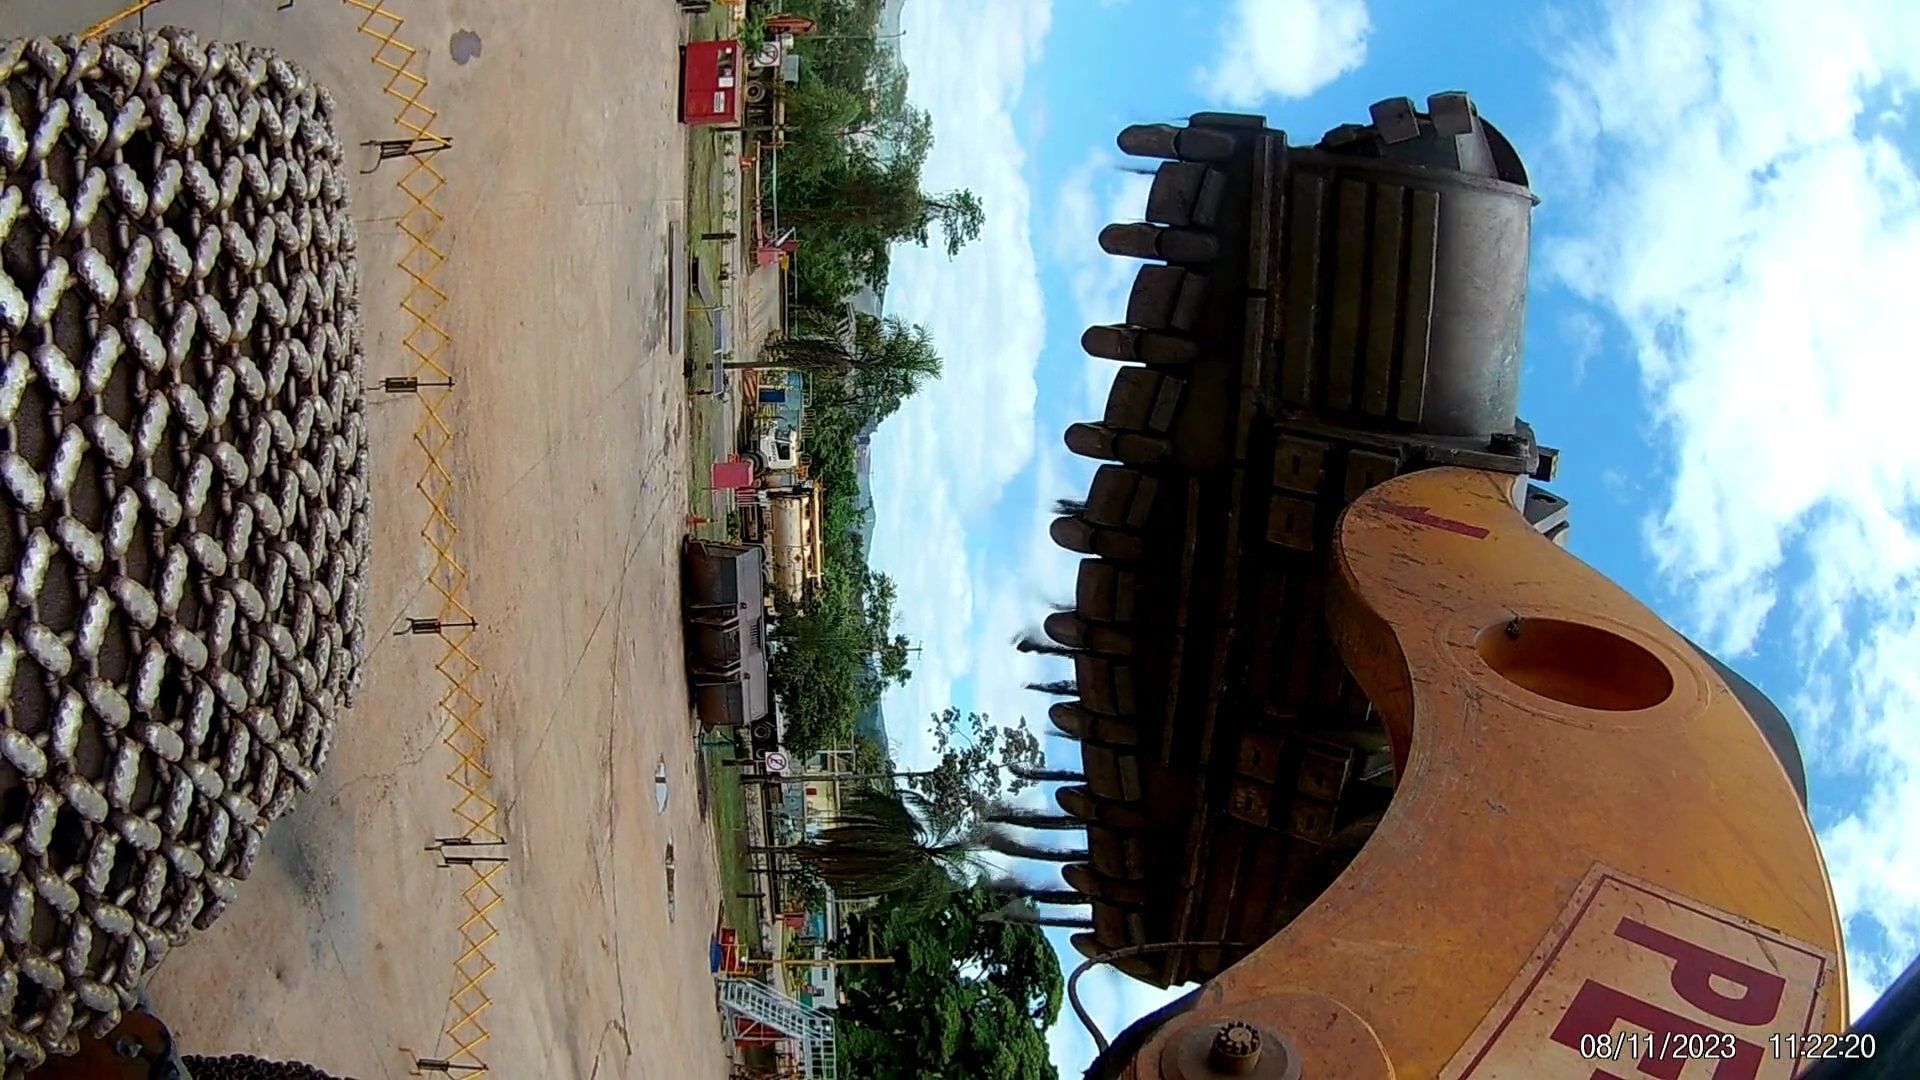FPS: (1077, 212, 1226, 280), (1101, 112, 1249, 175), (1054, 324, 1201, 386), (1007, 595, 1139, 662), (1021, 705, 1166, 765), (1051, 915, 1163, 986), (1036, 836, 1145, 903), (1035, 498, 1145, 555), (1039, 422, 1170, 465), (1044, 785, 1125, 818)
